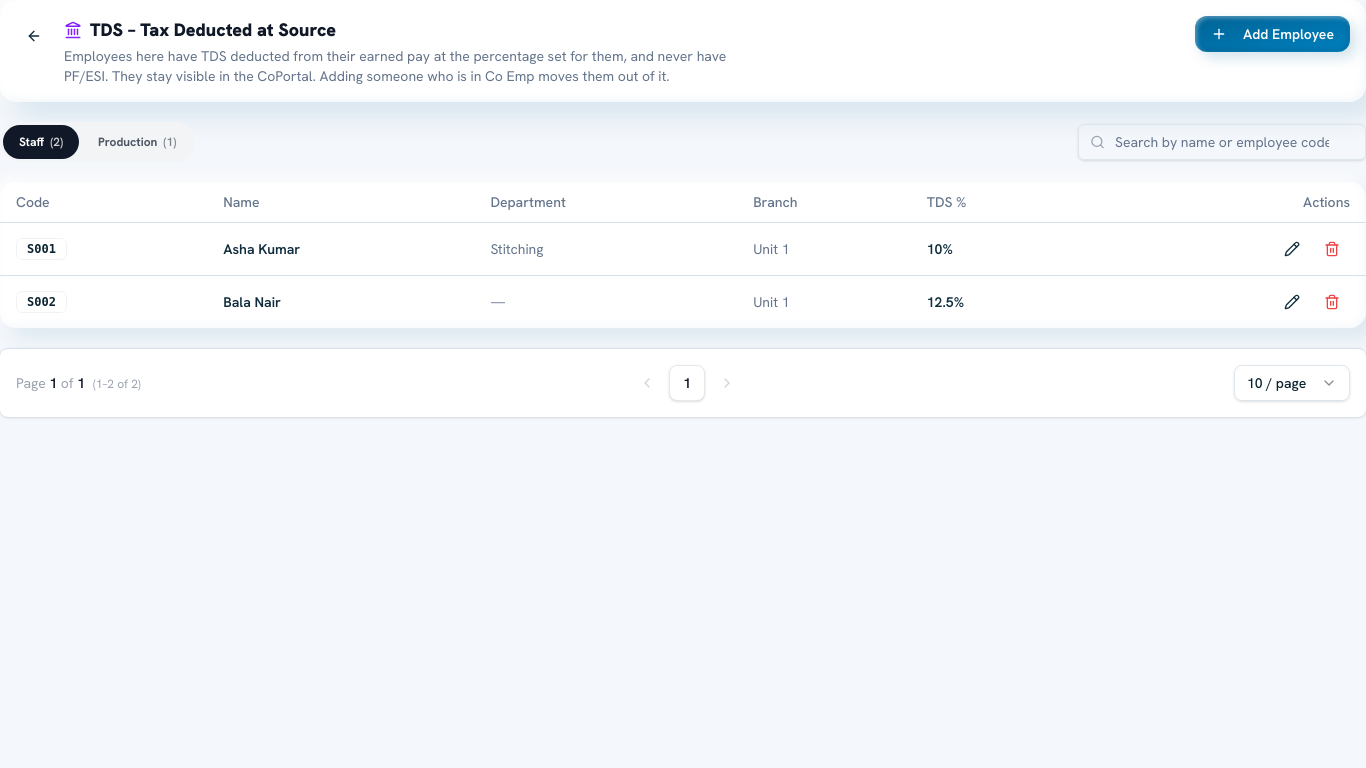
Edit percentage › opens with the current percentage, for the right employee
Click the button named "Edit TDS percentage for Bala Nair" at (1292, 302), box [1274,284,1310,320]
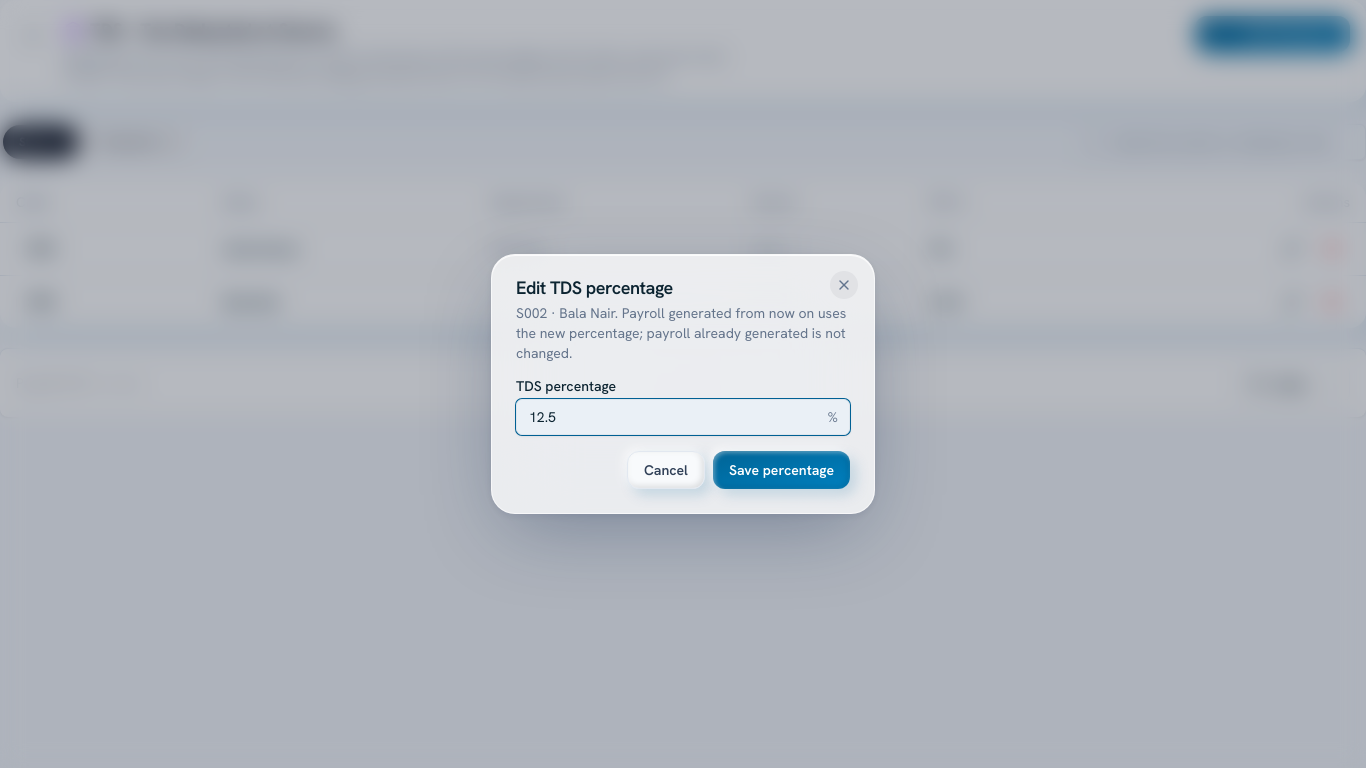
Check: the text "S002 · Bala Nair" is shown, box [516,304,615,322]
